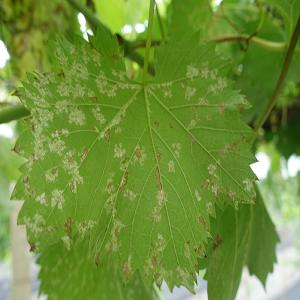Folha: (10, 7, 265, 298)
Fungo: (28, 78, 68, 163), (174, 238, 206, 293), (186, 64, 227, 104), (22, 214, 57, 256), (144, 234, 172, 280), (66, 49, 90, 102), (221, 130, 250, 162), (212, 180, 239, 214), (62, 153, 84, 193), (93, 70, 120, 97), (148, 188, 168, 223), (108, 218, 123, 256), (110, 106, 128, 136), (75, 217, 97, 241), (123, 251, 134, 290), (242, 174, 257, 202), (68, 105, 86, 126), (21, 173, 36, 197), (157, 80, 175, 100), (50, 188, 65, 210), (92, 107, 109, 126), (90, 49, 104, 72), (189, 106, 201, 132), (103, 192, 117, 214), (110, 47, 123, 70), (195, 212, 208, 234), (118, 170, 130, 192), (105, 171, 115, 193), (44, 167, 58, 182), (113, 142, 125, 159), (236, 99, 248, 116), (123, 188, 137, 202), (154, 165, 162, 189), (212, 232, 222, 250), (64, 216, 72, 238), (36, 192, 48, 206), (171, 142, 181, 158), (207, 163, 216, 176), (167, 159, 175, 173), (57, 68, 65, 79), (201, 178, 209, 189), (88, 95, 98, 103), (104, 128, 110, 141), (195, 188, 201, 201), (94, 254, 100, 266), (68, 180, 74, 192), (135, 147, 141, 158), (91, 125, 99, 132), (154, 119, 159, 127), (169, 122, 173, 128)
